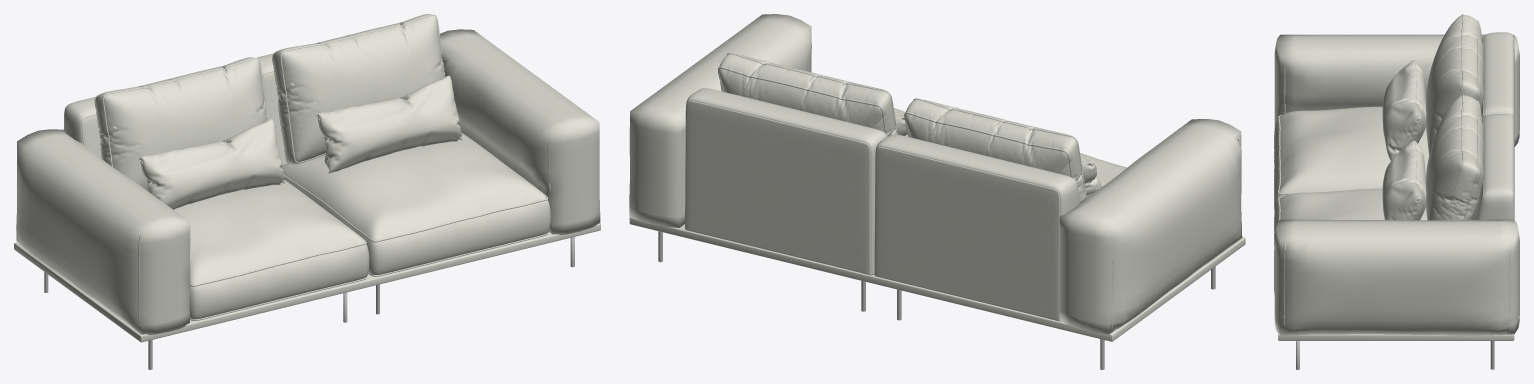
The model's file is double_arm_2.glb.
3 views of the same model, side by side, from view 1: azimuth 30°, elevation 25°; view 2: azimuth 150°, elevation 25°; view 3: azimuth 270°, elevation 25° (orthographic). The views are drawn at different scales.
Visible parts, largest first — view 1: Armrest.004, Seating cushion .003, Seating cushion .002, Armrest.003, pillow.008, pillow.006, pillow.007, pillow.005, prop.002, pillow.004, pillow.009; view 2: pillow.009, pillow.004, Armrest.004, Armrest.003, pillow.006, pillow.008, prop.002, Seating cushion .002, pillow.005; view 3: Armrest.003, Armrest.004, Seating cushion .002, pillow.008, pillow.006, pillow.009, Seating cushion .003, pillow.005, pillow.007, pillow.004, prop.002, Leg.003.
Boxes of the visible parts, <box> form: Armrest.004: <box>16,129,190,334</box>; Seating cushion .003: <box>281,133,550,276</box>; Seating cushion .002: <box>174,180,369,320</box>; Armrest.003: <box>440,29,600,234</box>; pillow.008: <box>272,14,445,164</box>; pillow.006: <box>94,57,267,191</box>; pillow.007: <box>316,75,461,173</box>; pillow.005: <box>139,119,284,209</box>; prop.002: <box>14,223,600,342</box>; pillow.004: <box>64,65,223,158</box>; pillow.009: <box>257,22,401,165</box>; pillow.009: <box>685,88,887,275</box>; pillow.004: <box>874,134,1079,321</box>; Armrest.004: <box>1059,119,1242,334</box>; Armrest.003: <box>629,14,811,227</box>; pillow.006: <box>904,98,1086,201</box>; pillow.008: <box>718,53,897,136</box>; prop.002: <box>629,217,1245,341</box>; Seating cushion .002: <box>1080,153,1126,186</box>; pillow.005: <box>1080,157,1101,196</box>; Armrest.003: <box>1274,219,1519,335</box>; Armrest.004: <box>1274,34,1519,146</box>; Seating cushion .002: <box>1274,106,1429,212</box>; pillow.008: <box>1426,94,1483,220</box>; pillow.006: <box>1426,14,1483,154</box>; pillow.009: <box>1471,114,1514,219</box>; Seating cushion .003: <box>1274,188,1427,294</box>; pillow.005: <box>1382,60,1426,160</box>; pillow.007: <box>1382,140,1426,220</box>; pillow.004: <box>1481,32,1514,130</box>; prop.002: <box>1278,333,1514,340</box>; Leg.003: <box>1296,341,1494,369</box>.
Bounding box in the file's own units: 1.96 × 0.7751 × 0.9352.
3 materials, 2 textured.
